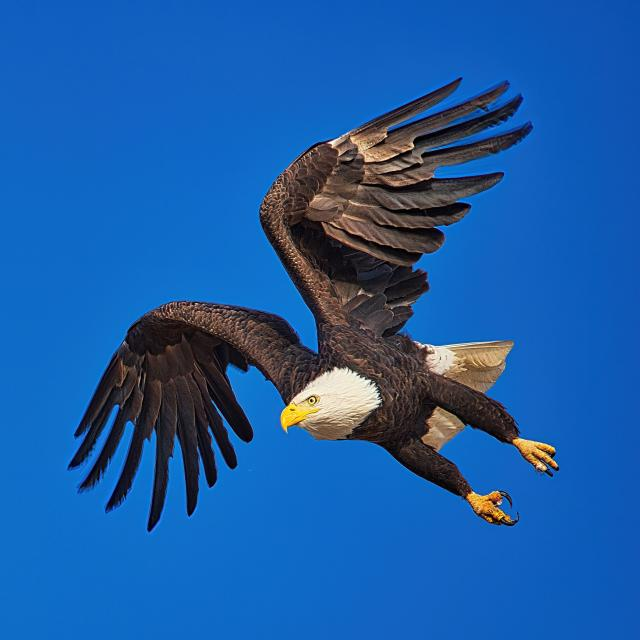Eagle: (68, 72, 566, 535)
